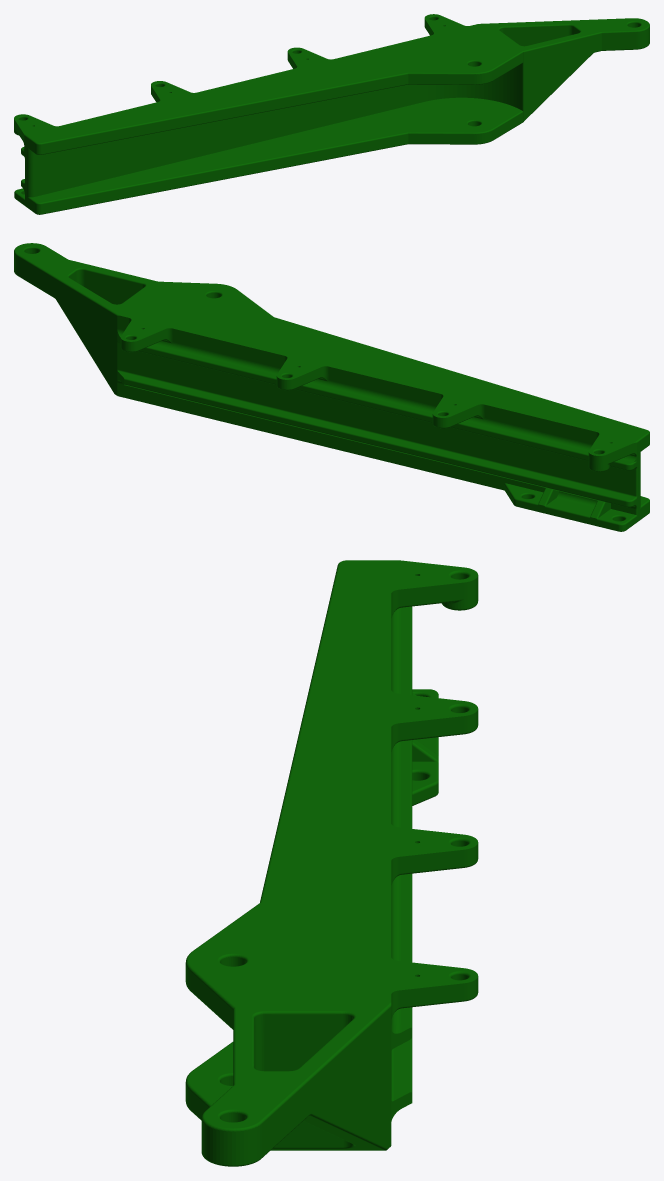
File: upper_arm.dae
The picture shows the model from 3 angles, top to bottom: view 1: azimuth 30°, elevation 25°; view 2: azimuth 150°, elevation 25°; view 3: azimuth 270°, elevation 25°; orthographic projection. The views are drawn at different scales.
Parts seen in each view (by area): view 1: Upper Arm Custom Gears; view 2: Upper Arm Custom Gears; view 3: Upper Arm Custom Gears.
Boxes of the visible parts, x1,y1,x2,y2 form: Upper Arm Custom Gears: (14, 14, 649, 214); Upper Arm Custom Gears: (14, 243, 649, 531); Upper Arm Custom Gears: (185, 560, 478, 1166).
Size of the model in its own units: 0.256 by 0.0555 by 0.03.
